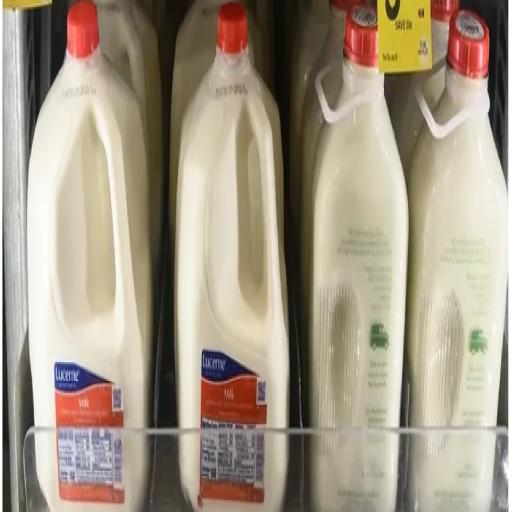green_milk: (27, 0, 153, 511), (175, 2, 289, 510), (302, 6, 408, 429), (406, 11, 508, 425), (94, 0, 163, 284), (169, 0, 227, 241)
